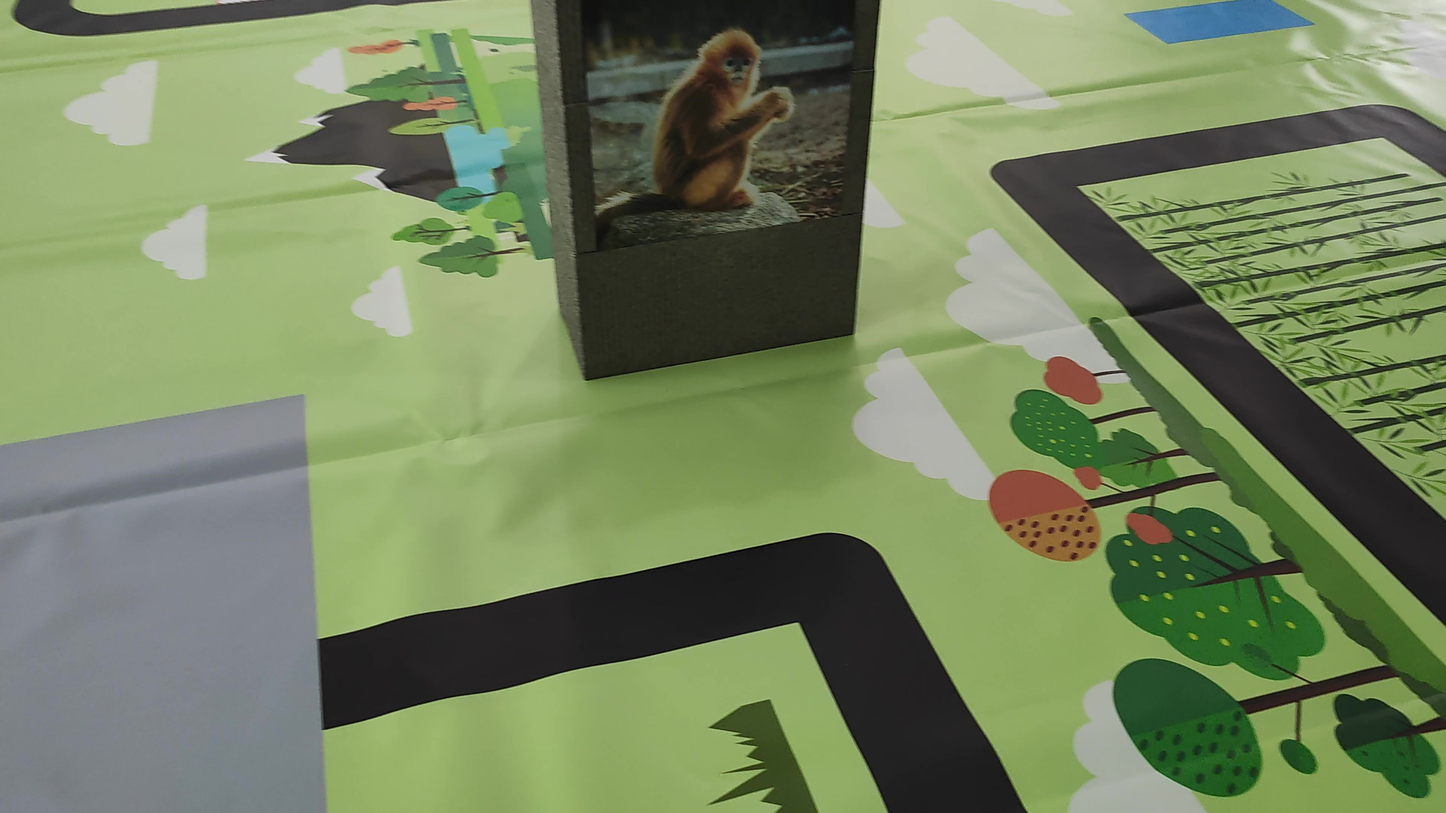monkey: (619, 17, 822, 222)
